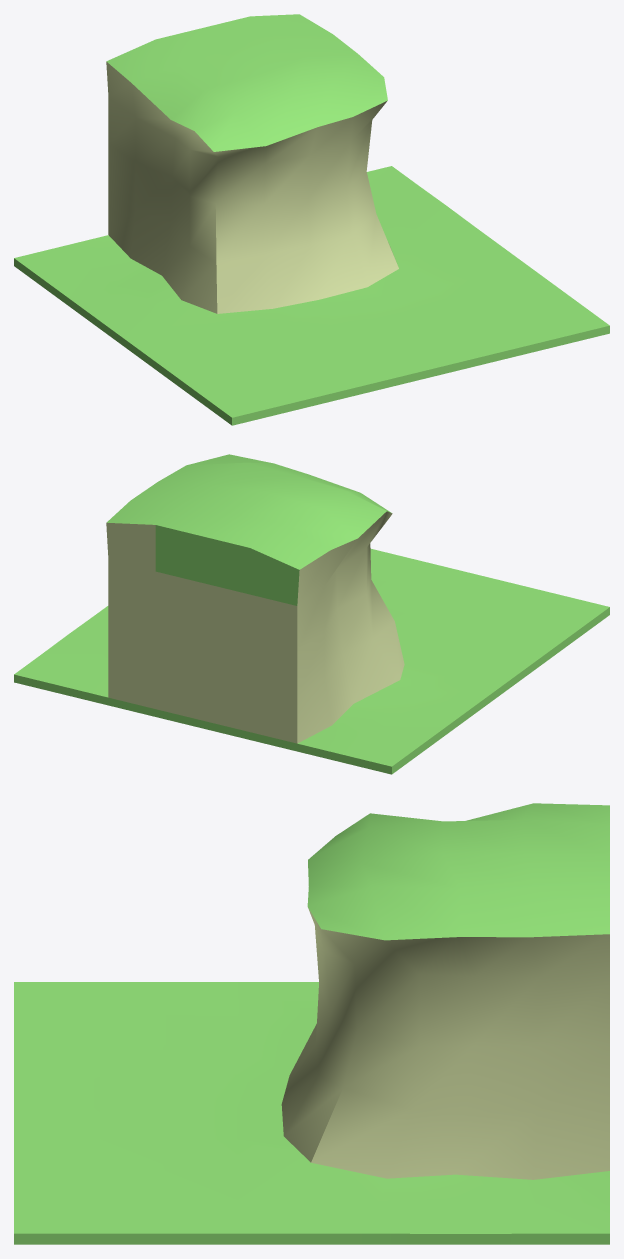
The model's file is wall_slim_tip_1.glb.
3 views of the same model, one above another, from view 1: azimuth 30°, elevation 25°; view 2: azimuth 150°, elevation 25°; view 3: azimuth 270°, elevation 25° (orthographic). The views are drawn at different scales.
Parts seen in each view (by area): view 1: wall_slim_tip_1; view 2: wall_slim_tip_1; view 3: wall_slim_tip_1.
Boxes of the visible parts, x1,y1,x2,y2 form: wall_slim_tip_1: (14,14,609,425); wall_slim_tip_1: (14,454,609,774); wall_slim_tip_1: (14,803,609,1244).
Size of the model in its own units: 2 by 0.9715 by 2.
